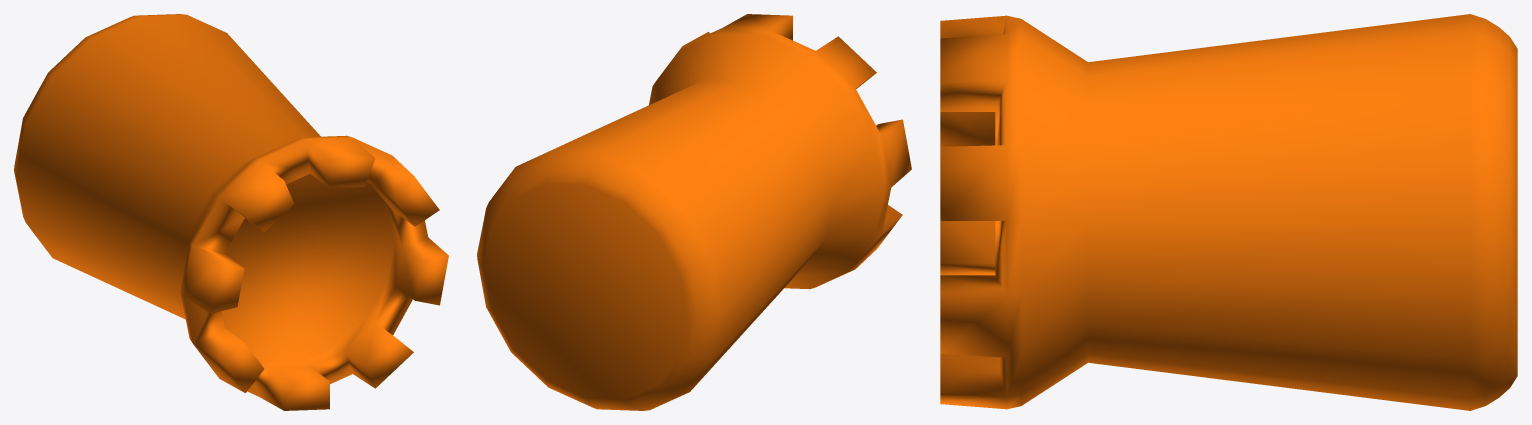
Rendered from starting_tower.glb.
The picture shows the model from 3 angles, left to right: view 1: azimuth 30°, elevation 25°; view 2: azimuth 150°, elevation 25°; view 3: azimuth 270°, elevation 25°; orthographic projection. The views are drawn at different scales.
Parts seen in each view (by area): view 1: starting_tower; view 2: starting_tower; view 3: starting_tower.
Part boxes in pixels (bbox=[...]): starting_tower: bbox=[14, 14, 448, 410]; starting_tower: bbox=[477, 14, 911, 410]; starting_tower: bbox=[940, 14, 1517, 410].
Bounding box in the file's own units: 1.43 × 1.43 × 2.08.
